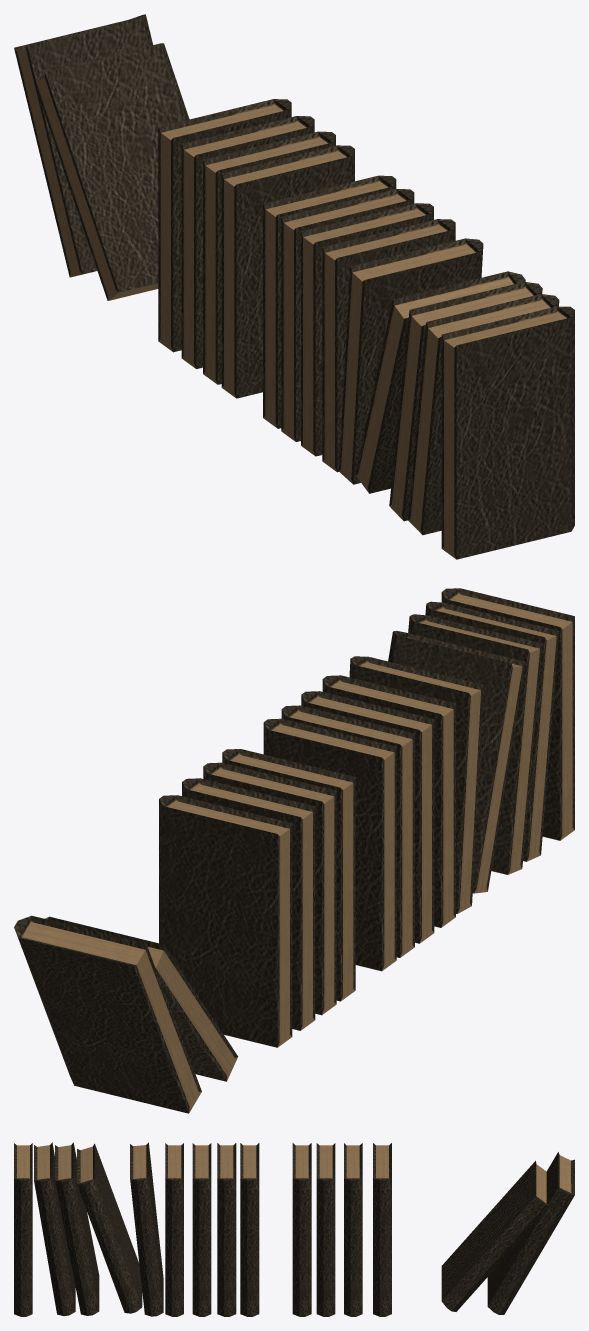
The model's file is Book Collection 1.fbx.
3 views of the same model, one above another, from view 1: azimuth 30°, elevation 25°; view 2: azimuth 150°, elevation 25°; view 3: azimuth 270°, elevation 25° (orthographic). The views are drawn at different scales.
Parts seen in each view (by area): view 1: shelf 4; view 2: shelf 4; view 3: shelf 4.
Boxes of the visible parts, <box> form: shelf 4: <box>14,14,574,559</box>; shelf 4: <box>14,588,574,1113</box>; shelf 4: <box>14,1142,574,1316</box>.
Size of the model in its own units: 121 by 202 by 748.
